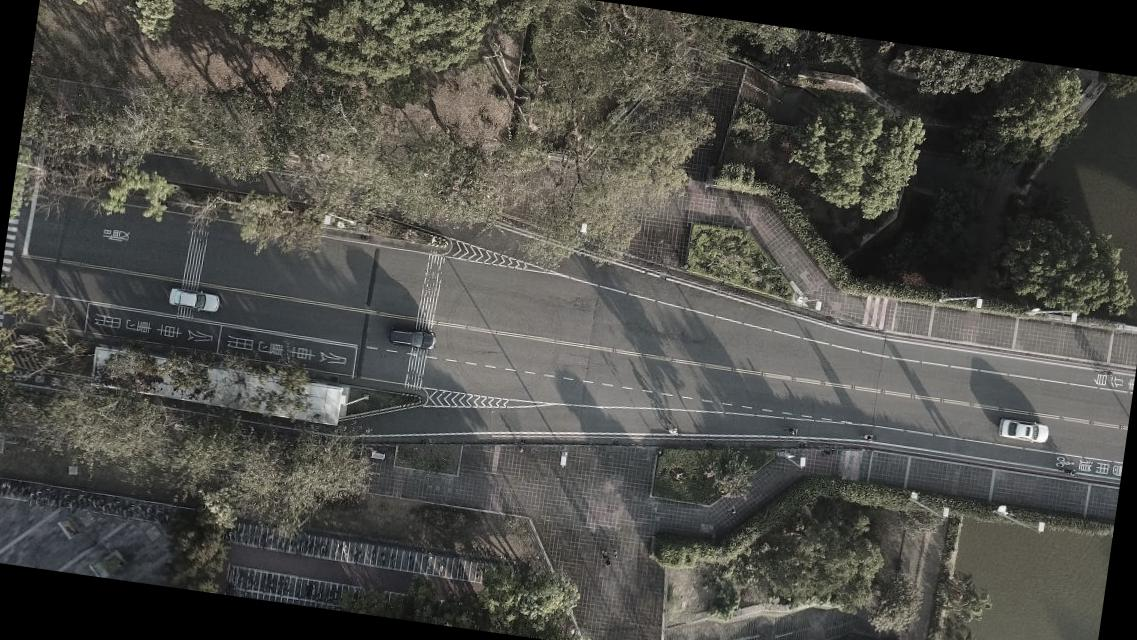vehicle: (996, 416, 1052, 446), (166, 286, 221, 314), (387, 326, 437, 352)
